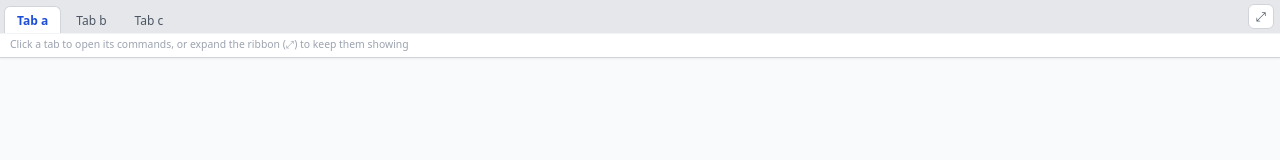
Scenario: Ribbon › collapsed (menu-bar mode) › closes the peek when the same tab is clicked again
Click the tab "Tab a": click(33, 20) [4,6,61,34]
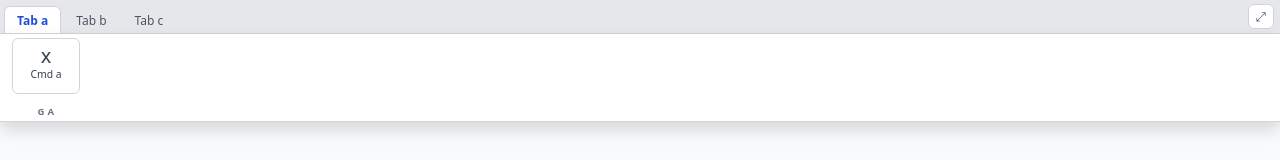
Click the tab "Tab a": click(33, 20) [4,6,61,34]
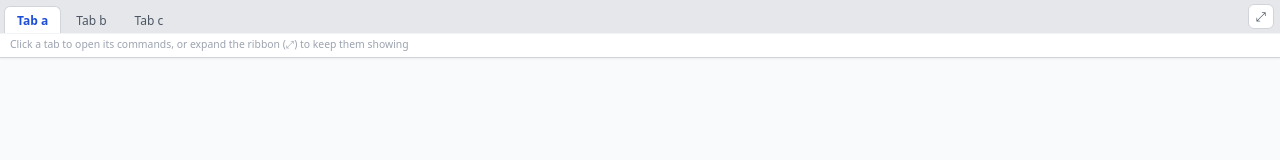
Check: the panel with class "rbn-body" is gone
